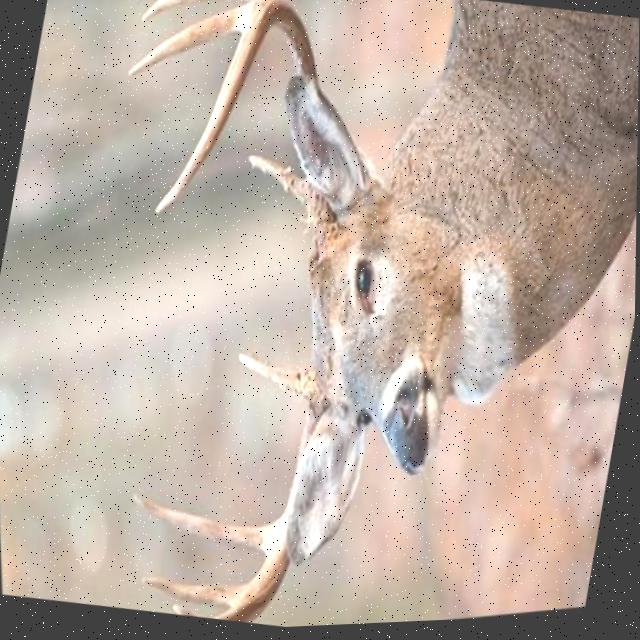L-G1: (245, 156, 305, 213)
L-G2: (140, 0, 249, 28)
L-G3: (125, 7, 247, 80)
L-G4: (153, 37, 260, 221)
R-G1: (237, 354, 310, 403)
R-G2: (133, 494, 282, 561)
R-G3: (138, 577, 246, 611)
R-G4: (170, 603, 236, 623)
